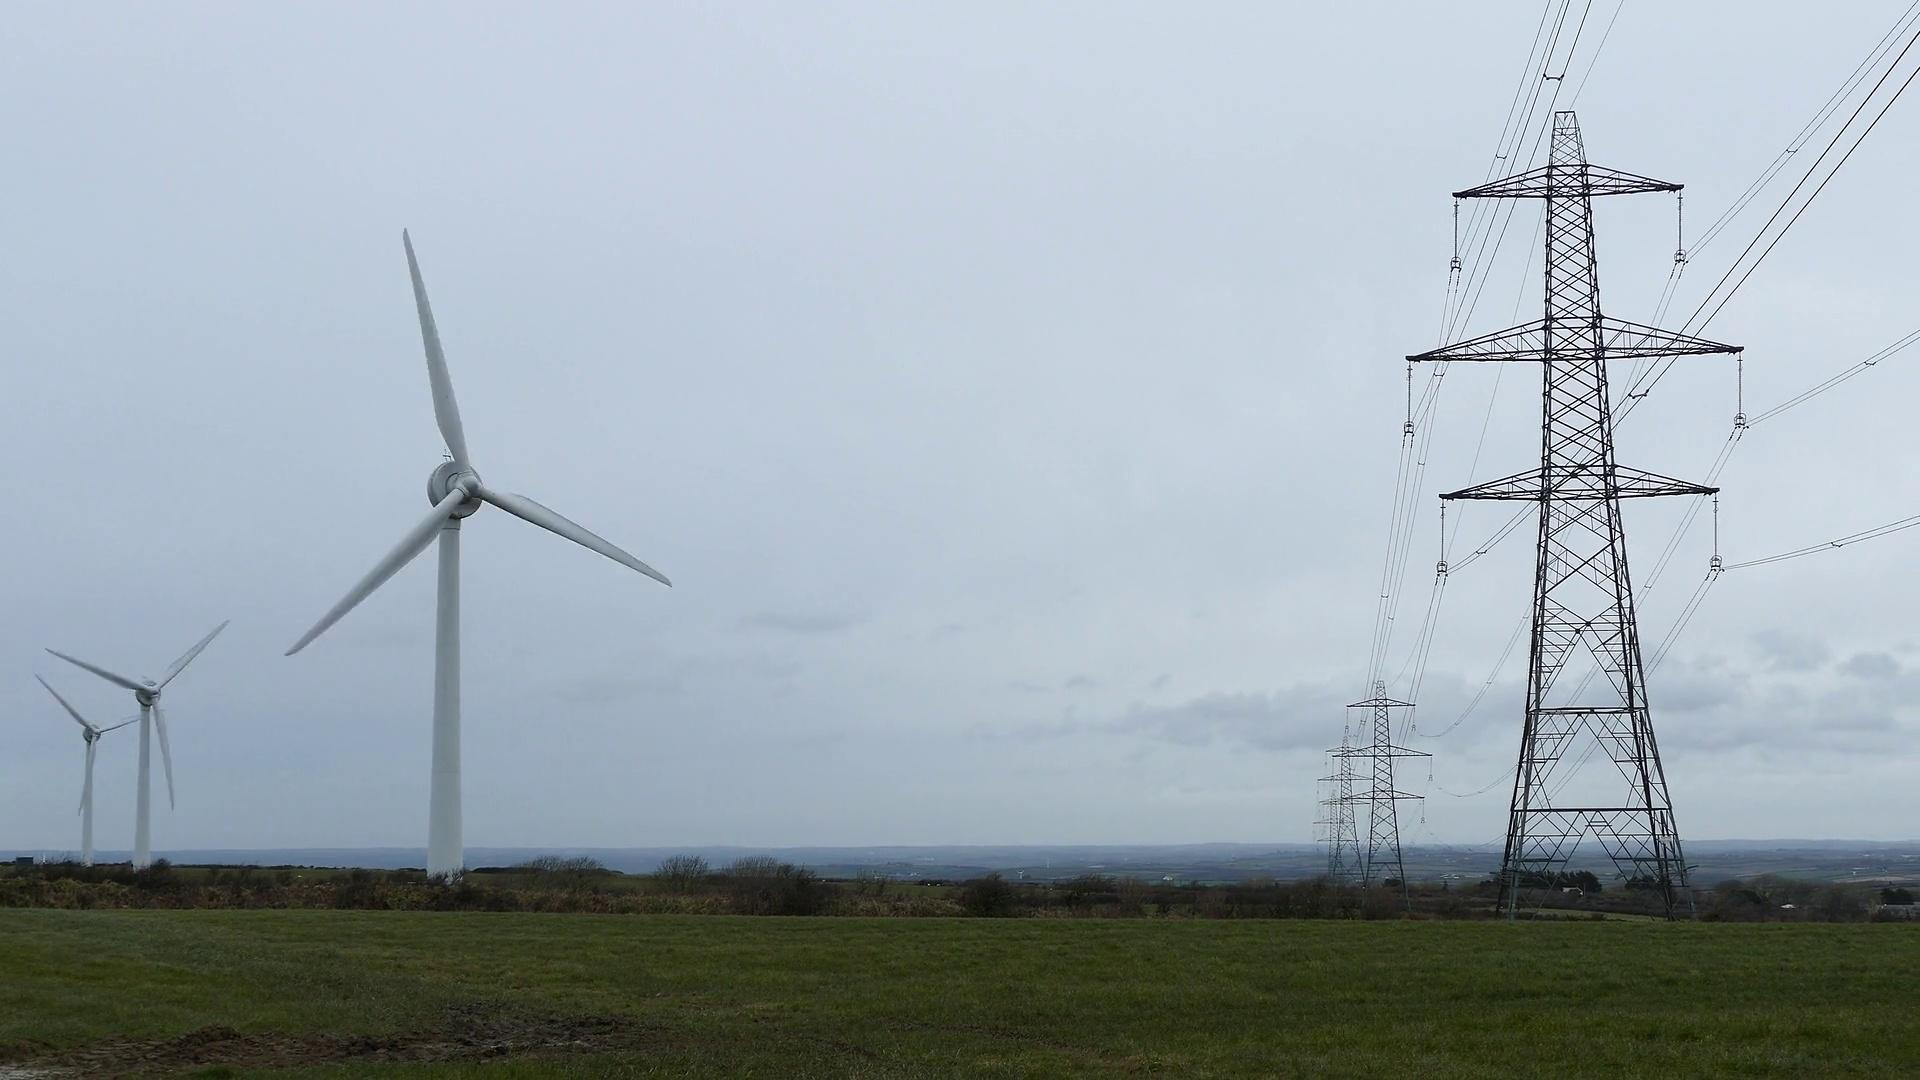cable tower: (1404, 108, 1746, 919), (1333, 678, 1433, 910), (1316, 736, 1373, 886), (1313, 793, 1356, 884)
turbine: (218, 175, 740, 949), (63, 579, 293, 918), (37, 633, 193, 887)
